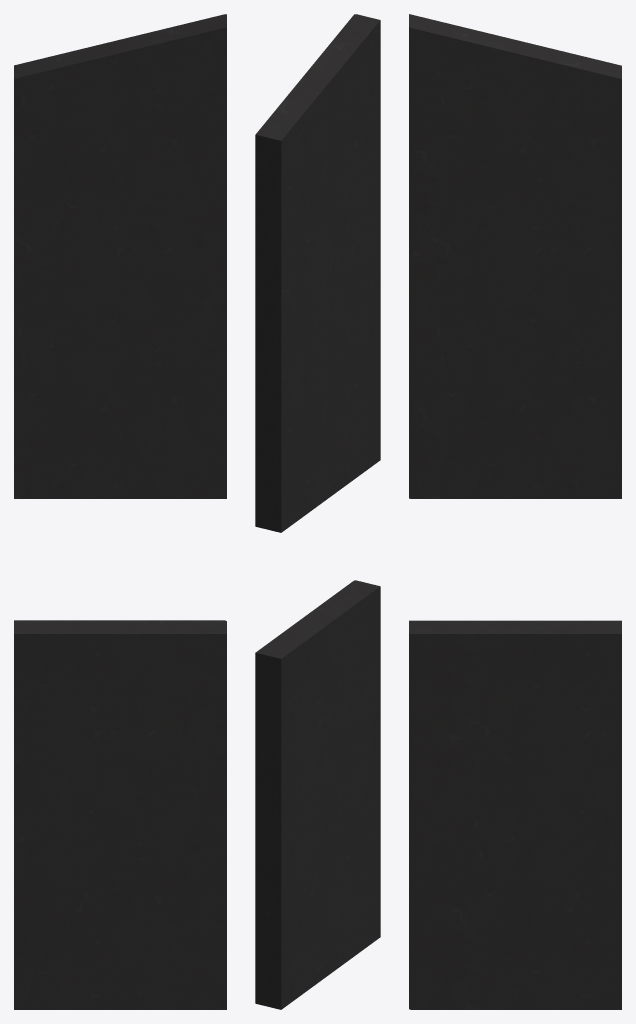
File: A13.1.1 H.WALL. PNL 2446 UP + 1950 DWN E9.fbx
The picture shows the model from 3 angles, left to right: view 1: azimuth 90°, elevation 25°; view 2: azimuth 150°, elevation 25°; view 3: azimuth 270°, elevation 25°; orthographic projection. The views are drawn at different scales.
Visible parts, largest first — view 1: Model, Group1; view 2: Model, Group1; view 3: Model, Group1.
Boxes of the visible parts, <box> form: Model: <box>14,14,226,498</box>; Group1: <box>14,620,226,1009</box>; Model: <box>255,14,380,532</box>; Group1: <box>255,580,380,1009</box>; Model: <box>409,14,621,498</box>; Group1: <box>409,620,621,1009</box>.
Bounding box in the file's own units: 150 × 5096 × 1000.
